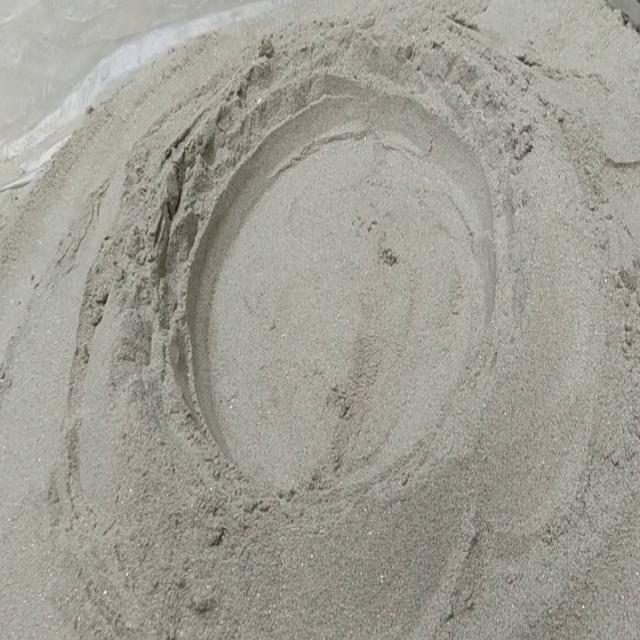C40: (185, 91, 496, 490)
